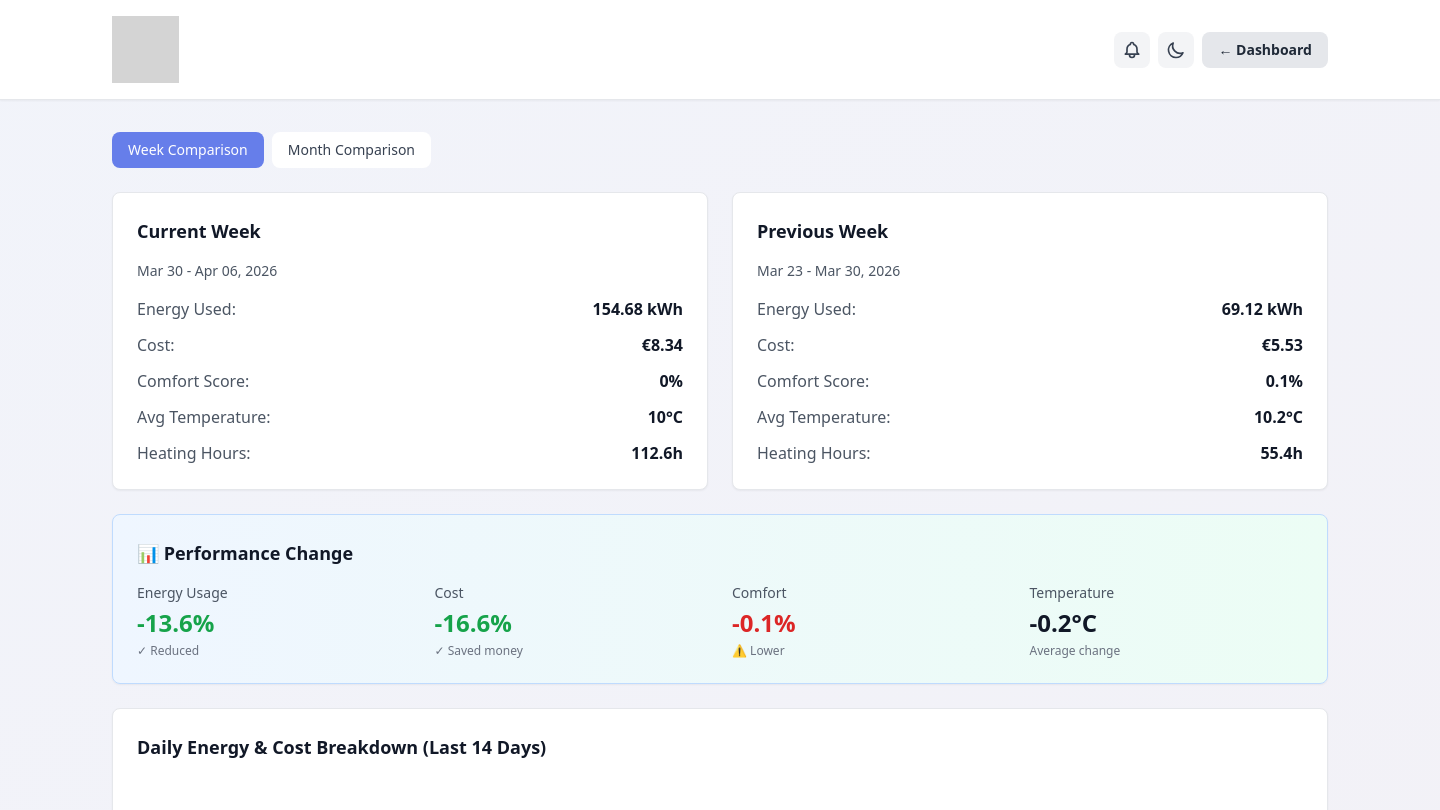
Test: ComparisonPage › switches to month view when month button clicked
Check: the text "Mar 30 - Apr 06, 2026" is shown, box [137,261,277,280]
Note: Click month button
Click the button "Month Comparison" at (351, 150), box [272,132,431,168]
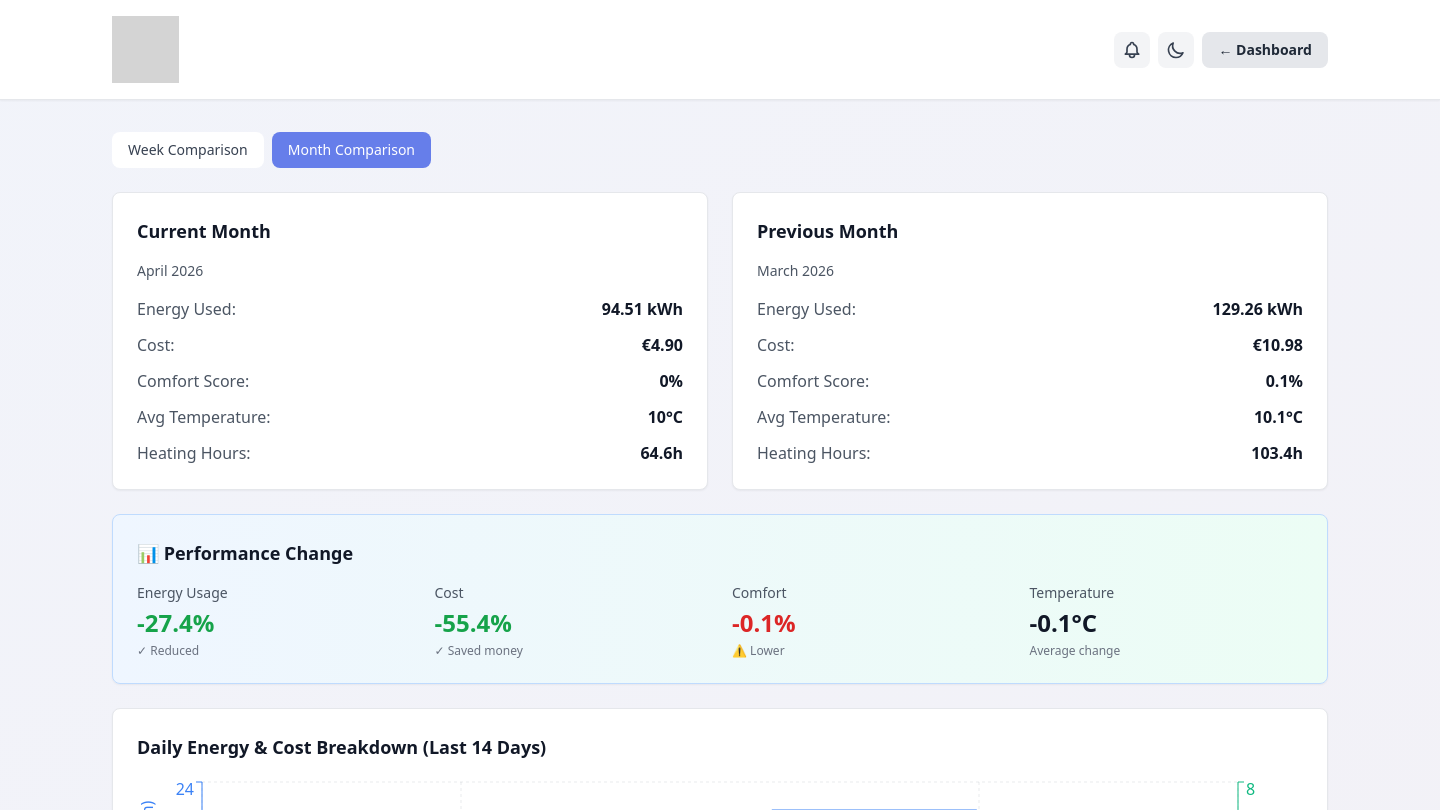
Check: the text "April 2026" is shown, box [137,261,203,280]
Check: the text "March 2026" is shown, box [757,261,834,280]
Check: the text "94.51 kWh" is shown, box [602,297,683,321]
